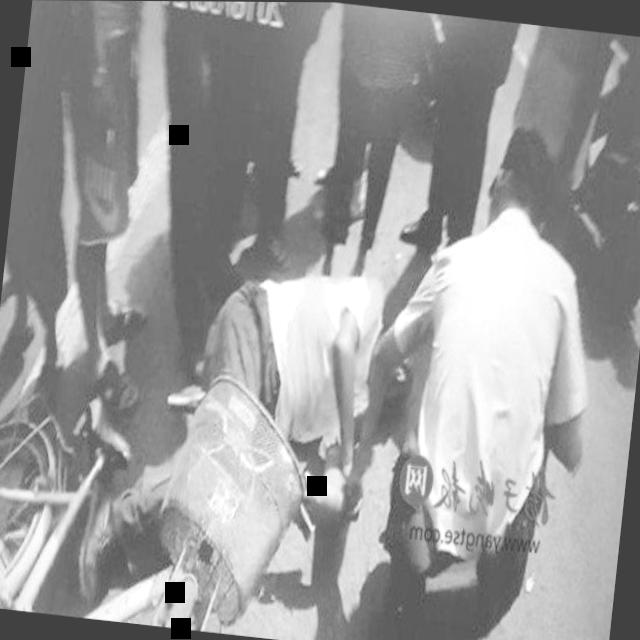Fall-Detected: (62, 213, 416, 637)
